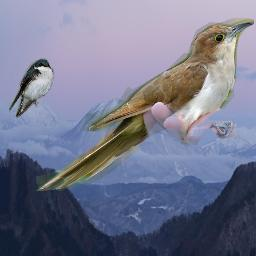Cuckoo: (36, 18, 254, 191)
Swallow: (9, 57, 55, 118)
